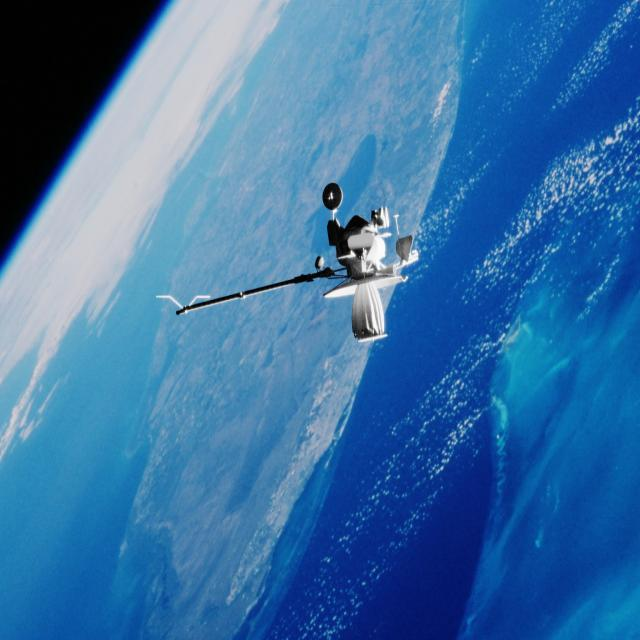satellite: (156, 176, 440, 374)
